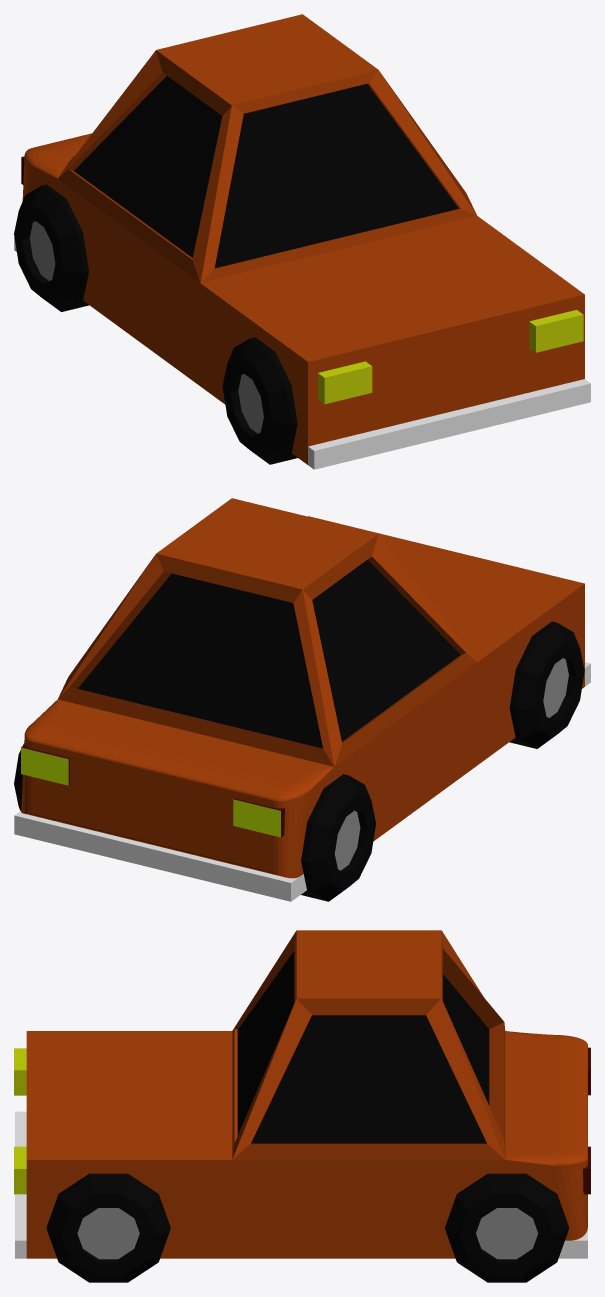
Rendered from Car.gltf.
3 renders of one model, top to bottom at view 1: azimuth 30°, elevation 25°; view 2: azimuth 150°, elevation 25°; view 3: azimuth 270°, elevation 25°, orthographic. The views are drawn at different scales.
Visible parts, largest first — view 1: CAR, Cylinder.002, Cylinder.003, Cube.001, Cube.002; view 2: CAR, Cylinder.002, Cylinder.003, Cube.004, Cube.003; view 3: CAR, Cylinder, Cylinder.001, Cube.001, Cube.002.
Part boxes in pixels (x1,y1,x2,y2): CAR: [14, 14, 590, 469]; Cylinder.002: [222, 337, 297, 464]; Cylinder.003: [14, 184, 88, 311]; Cube.001: [529, 310, 583, 352]; Cube.002: [318, 361, 372, 404]; CAR: [14, 498, 590, 901]; Cylinder.002: [509, 621, 584, 748]; Cylinder.003: [301, 774, 375, 901]; Cube.004: [233, 798, 284, 837]; Cube.003: [21, 745, 69, 785]; CAR: [15, 930, 587, 1258]; Cylinder: [46, 1173, 170, 1282]; Cylinder.001: [445, 1173, 568, 1282]; Cube.001: [14, 1146, 26, 1194]; Cube.002: [14, 1048, 26, 1095].
Size of the model in its own units: 4.94 by 3.97 by 8.26.
1 material, 1 textured.
